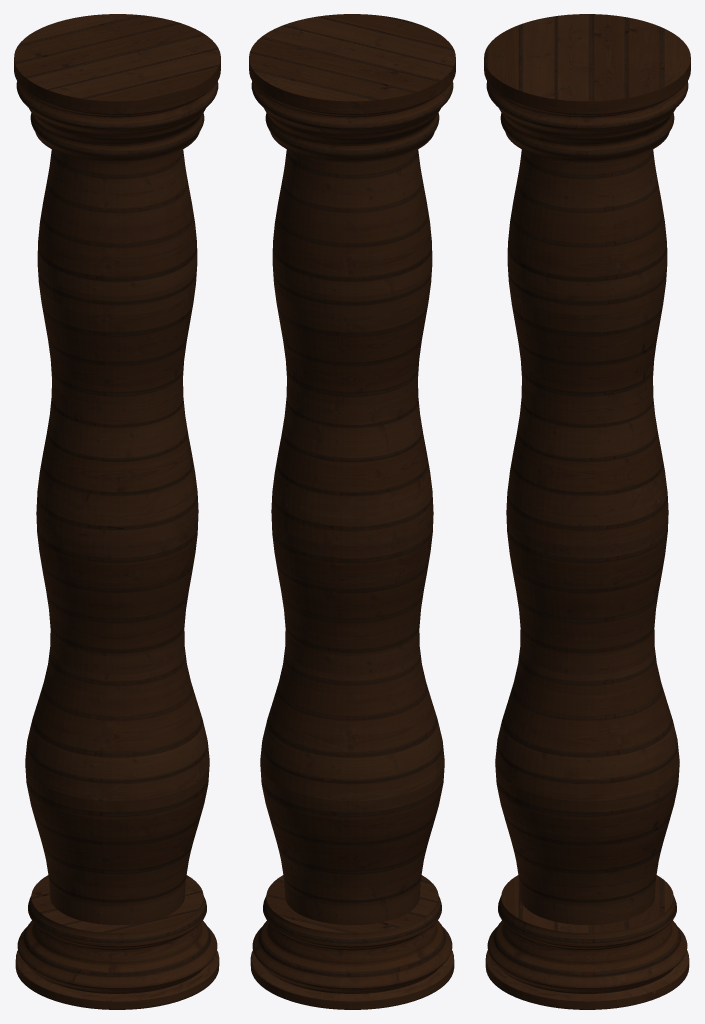
The model's file is building.glb.
3 renders of one model, left to right at view 1: azimuth 30°, elevation 25°; view 2: azimuth 150°, elevation 25°; view 3: azimuth 270°, elevation 25°, orthographic.
Parts seen in each view (by area): view 1: vertical_member/madera_turned_post/member_shaft#0001, vertical_member/madera_turned_post/member_capital#0001, vertical_member/madera_turned_post/member_base#0001; view 2: vertical_member/madera_turned_post/member_shaft#0001, vertical_member/madera_turned_post/member_capital#0001, vertical_member/madera_turned_post/member_base#0001; view 3: vertical_member/madera_turned_post/member_shaft#0001, vertical_member/madera_turned_post/member_capital#0001, vertical_member/madera_turned_post/member_base#0001.
Boxes of the visible parts, left/top/right/bottom form: vertical_member/madera_turned_post/member_shaft#0001: left=25, top=149, right=209, bottom=925; vertical_member/madera_turned_post/member_capital#0001: left=14, top=14, right=220, bottom=162; vertical_member/madera_turned_post/member_base#0001: left=15, top=875, right=219, bottom=1009; vertical_member/madera_turned_post/member_shaft#0001: left=260, top=149, right=444, bottom=925; vertical_member/madera_turned_post/member_capital#0001: left=249, top=14, right=455, bottom=162; vertical_member/madera_turned_post/member_base#0001: left=250, top=875, right=454, bottom=1009; vertical_member/madera_turned_post/member_shaft#0001: left=495, top=149, right=679, bottom=925; vertical_member/madera_turned_post/member_capital#0001: left=484, top=14, right=690, bottom=162; vertical_member/madera_turned_post/member_base#0001: left=485, top=875, right=689, bottom=1009.
Size of the model in its own units: 0.66 by 3.2 by 0.66.
1 material, 1 textured.
